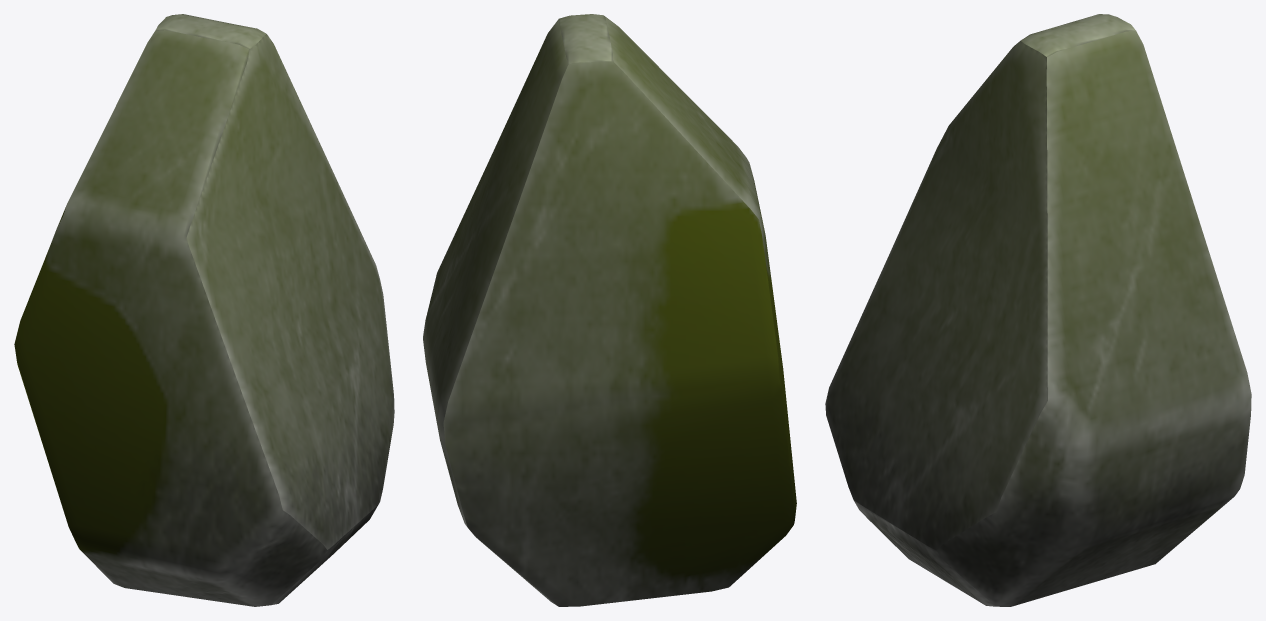
The model's file is rock8_unity.fbx.
The picture shows the model from 3 angles, left to right: view 1: azimuth 30°, elevation 25°; view 2: azimuth 150°, elevation 25°; view 3: azimuth 270°, elevation 25°; orthographic projection. The views are drawn at different scales.
Parts seen in each view (by area): view 1: Object007; view 2: Object007; view 3: Object007.
Part boxes in pixels (x1,y1,x2,y2): Object007: (14,14,394,606); Object007: (423,14,796,606); Object007: (825,14,1251,606).
Bounding box in the file's own units: 30.59 × 31.25 × 43.46.
Materials: 1 (1 with a texture image).
